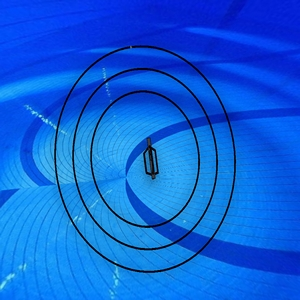circle: (52, 42, 240, 278)
submarine: (137, 135, 163, 183)
